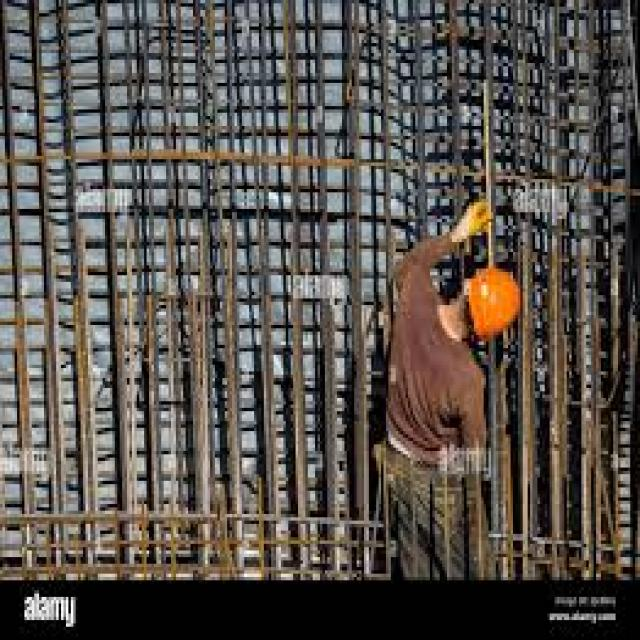Reflective-Jacket: (459, 262, 525, 355)
Safety-Helmet: (452, 189, 513, 265)
